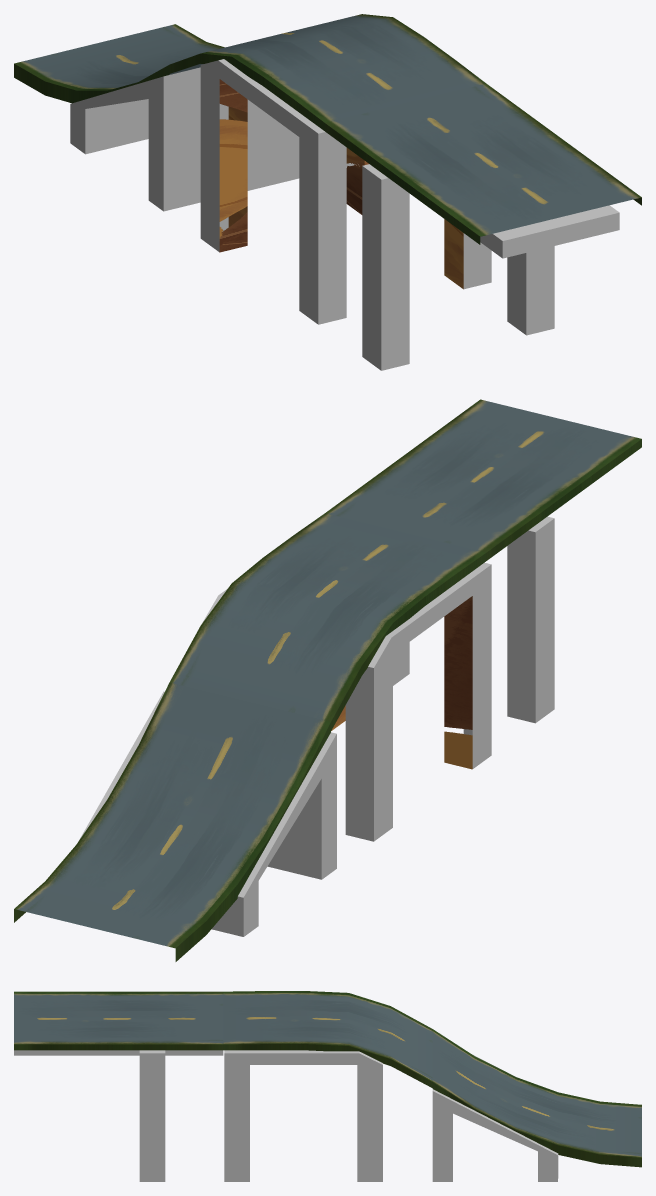
The model's file is Track_ramp.fbx.
3 renders of one model, top to bottom at view 1: azimuth 30°, elevation 25°; view 2: azimuth 150°, elevation 25°; view 3: azimuth 270°, elevation 25°, orthographic. The views are drawn at different scales.
Visible parts, largest first — view 1: Elevated_straight_track.001, Ramp_end.001, Ramp_start.001; view 2: Ramp_end.001, Ramp_start.001, Elevated_straight_track.001; view 3: Ramp_end.001, Elevated_straight_track.001, Ramp_start.001.
Part boxes in pixels (x1,y1,x2,y2): Elevated_straight_track.001: (325, 83, 641, 370); Ramp_end.001: (169, 14, 491, 324); Ramp_start.001: (14, 24, 299, 211); Ramp_end.001: (169, 513, 491, 841); Ramp_start.001: (14, 682, 336, 961); Elevated_straight_track.001: (325, 399, 641, 723); Ramp_end.001: (223, 991, 432, 1181); Elevated_straight_track.001: (14, 991, 223, 1181); Ramp_start.001: (432, 1029, 641, 1181).
Size of the model in its own units: 6.43 by 7.17 by 30.
